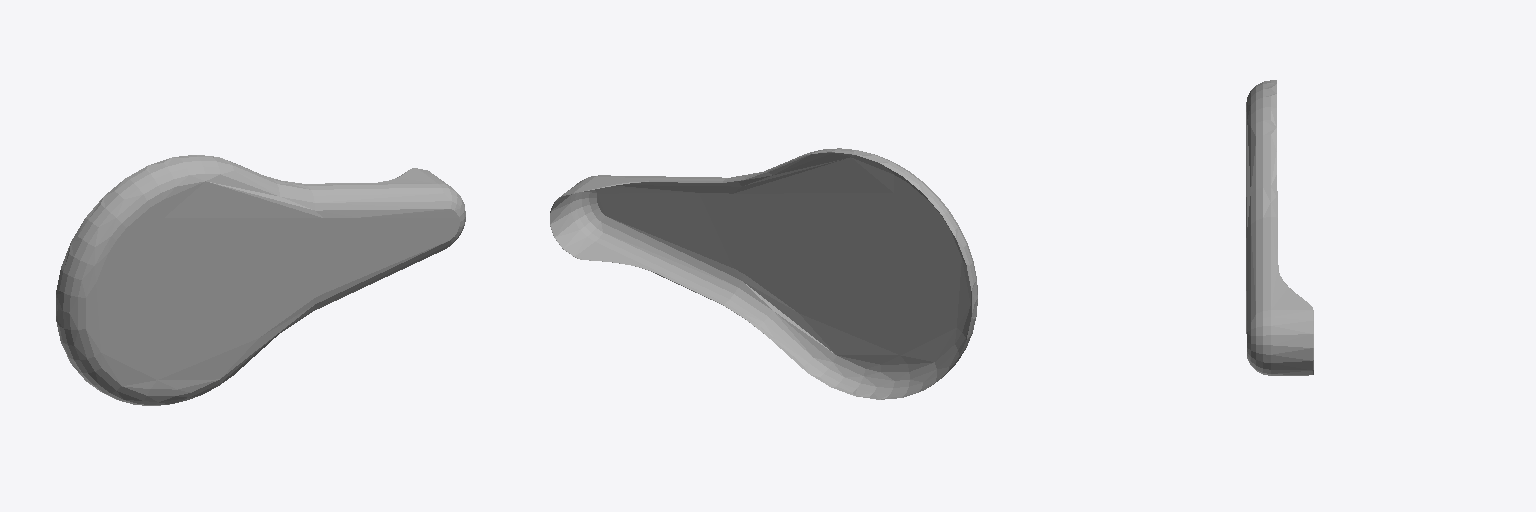
The model's file is toe-output.obj.
The picture shows the model from 3 angles: view 1: azimuth 30°, elevation 25°; view 2: azimuth 150°, elevation 25°; view 3: azimuth 270°, elevation 25°; orthographic projection.
Parts seen in each view (by area): view 1: __TMPOBJ_____TMPMESH__.044; view 2: __TMPOBJ_____TMPMESH__.044; view 3: __TMPOBJ_____TMPMESH__.044.
Boxes of the visible parts, box(x1,y1,x2,y2) form: __TMPOBJ_____TMPMESH__.044: box(56, 155, 465, 405); __TMPOBJ_____TMPMESH__.044: box(550, 148, 977, 399); __TMPOBJ_____TMPMESH__.044: box(1246, 80, 1313, 375).
Bounding box in the file's own units: 0.0895 × 0.051 × 0.013.